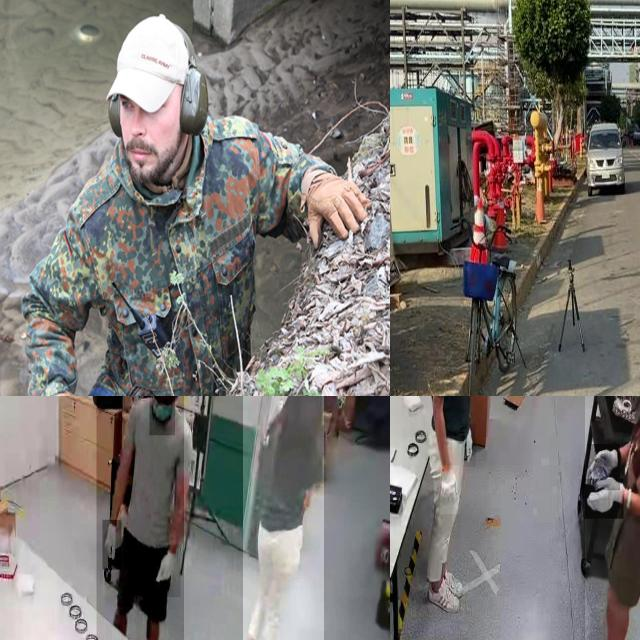Ear-protection: (105, 11, 210, 181)
No_Glasses: (121, 95, 133, 116)
face_mask: (149, 396, 174, 435)
hand_glove: (585, 478, 623, 518), (588, 444, 620, 490), (156, 545, 181, 598), (102, 520, 122, 570), (440, 465, 460, 515), (462, 424, 476, 468)
person: (96, 396, 184, 640), (243, 396, 324, 640), (424, 396, 488, 622), (584, 396, 640, 640)
shoes: (427, 576, 461, 614), (436, 556, 462, 601)
